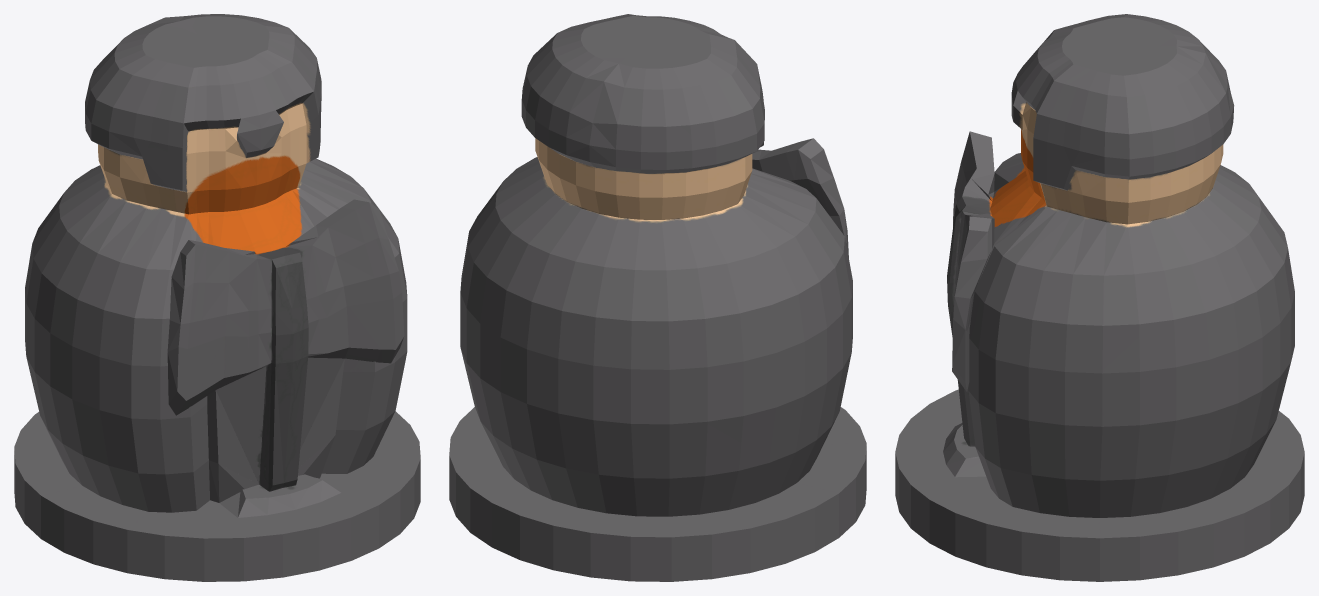
Rendered from nain.fbx.
3 views of the same model, side by side, from view 1: azimuth 30°, elevation 25°; view 2: azimuth 150°, elevation 25°; view 3: azimuth 270°, elevation 25° (orthographic). The views are drawn at different scales.
Visible parts, largest first — view 1: node_id4; view 2: node_id4; view 3: node_id4.
Part boxes in pixels (x1,y1,x2,y2): node_id4: (14,14,420,581); node_id4: (449,14,866,581); node_id4: (895,14,1304,581).
Bounding box in the file's own units: 0.423 × 0.512 × 0.423.
Materials: 1 (1 with a texture image).
